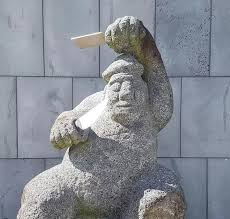Stone Statue: (2, 10, 198, 219)
